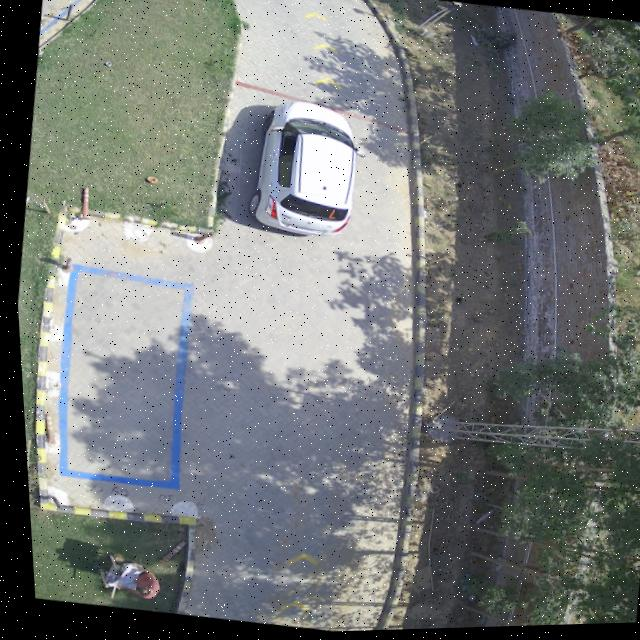car: (250, 103, 356, 240)
